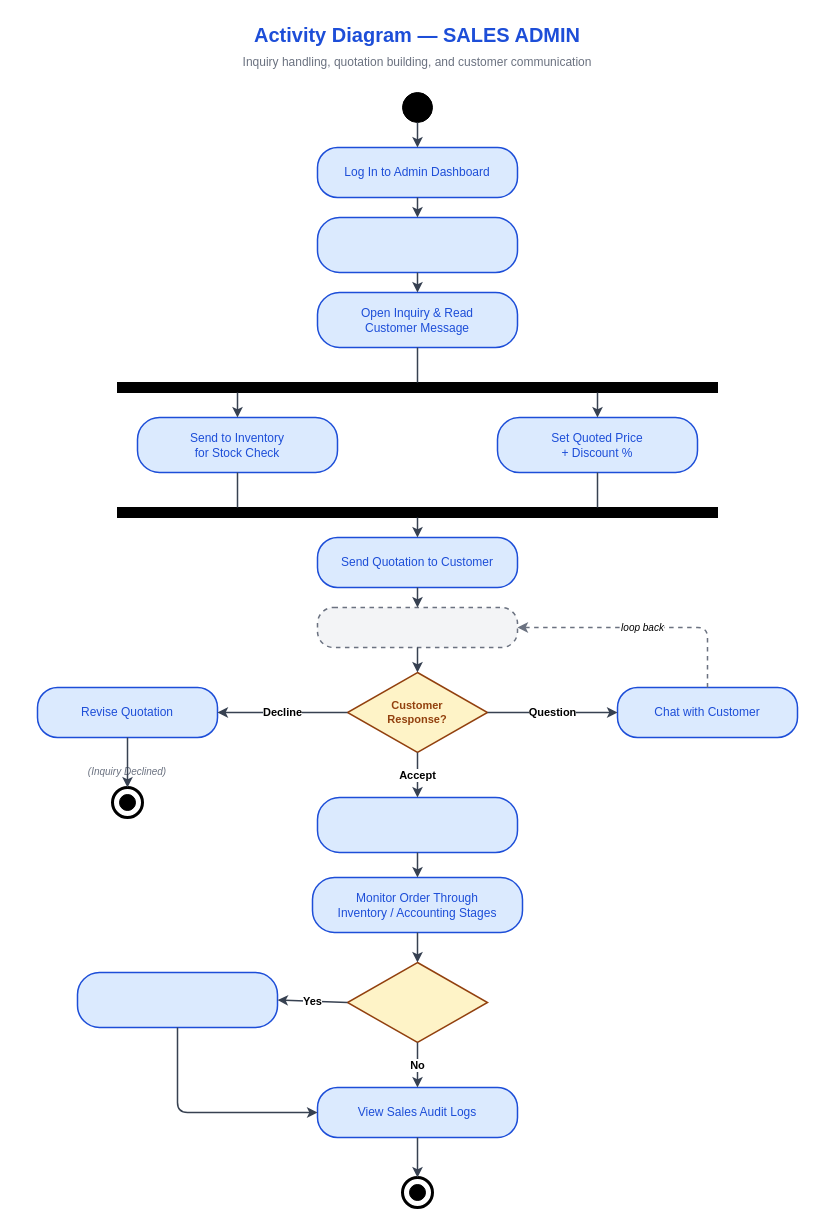
Image size: 834x1226. Some labels were removed from this diagram. The shapes that lost their labels are listed below. From the top down, each one's centre as x and y in pixels, then its label:
At [417,244]: "View New Inquiries Queue (RECEIVED)".
At [417,627]: "Wait for Customer Response".
At [417,824]: "View Order Detail & Download Invoice".
At [177,999]: "Approve / Schedule Return Request".
At [417,1002]: "Return Requested?".
